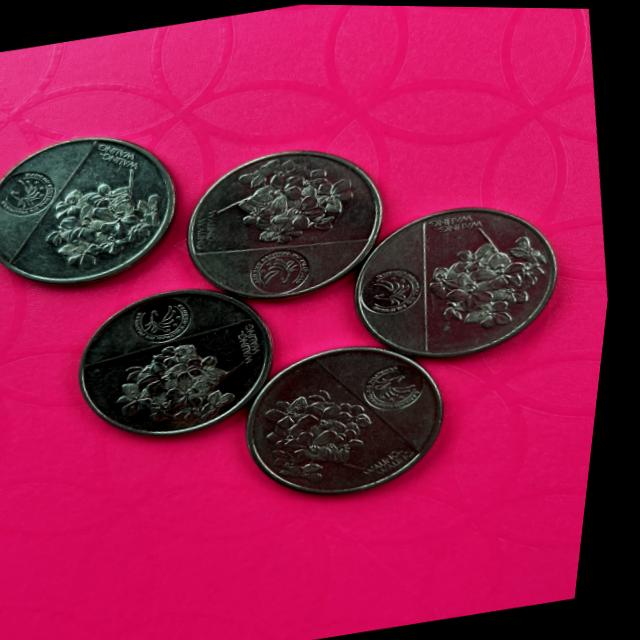1_New_Back: (214, 145, 376, 260), (261, 373, 404, 490), (424, 219, 568, 333), (40, 158, 175, 275), (127, 325, 270, 430)
